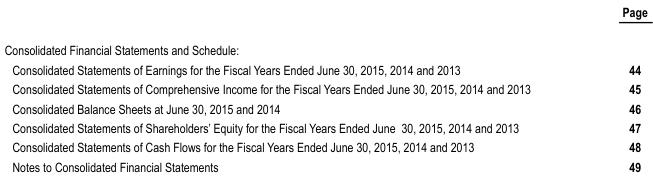table: (3, 3, 646, 173)
table column: (3, 3, 575, 173), (575, 3, 646, 173)
table column header: (3, 3, 646, 30)
table projected row header: (3, 30, 646, 59)
table row: (3, 30, 646, 59), (3, 3, 646, 30), (3, 78, 646, 98), (3, 136, 646, 156), (3, 59, 646, 78), (3, 98, 646, 117), (3, 117, 646, 136), (3, 156, 646, 173)
